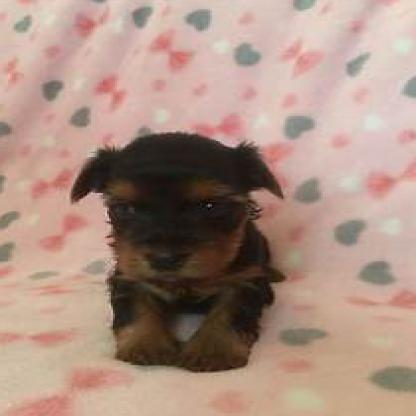dog: (69, 132, 286, 374)
